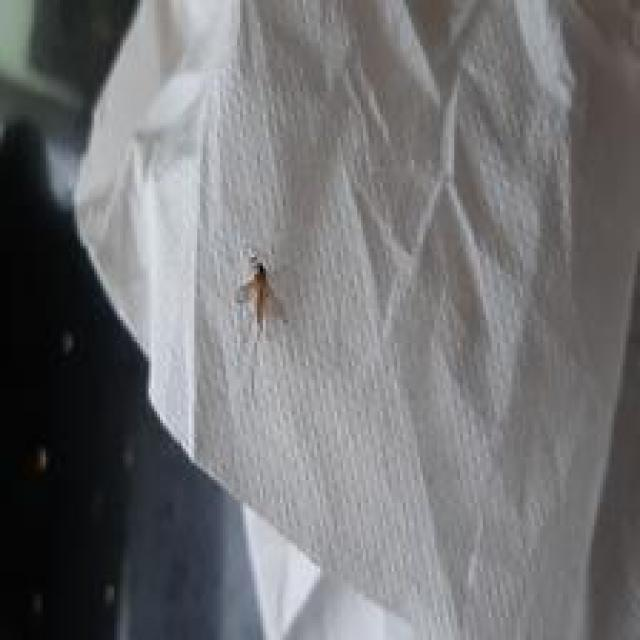Culex: (71, 0, 640, 640)
